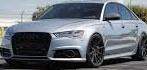Cars: (4, 3, 147, 67)
